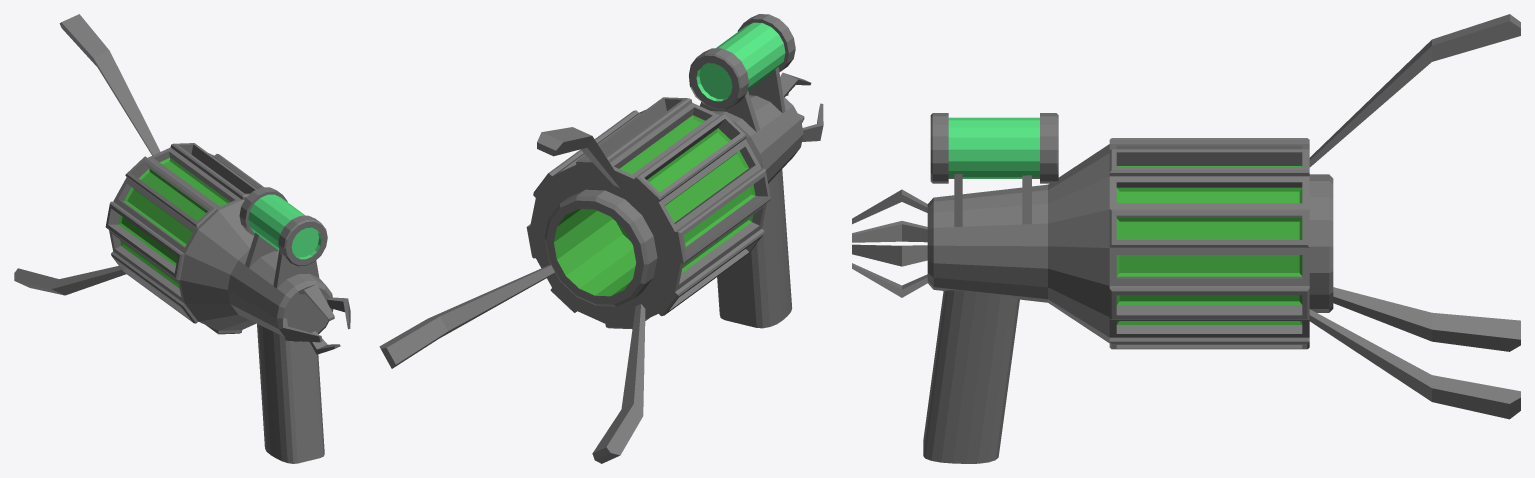
File: physgun.fbx
3 renders of one model, left to right at view 1: azimuth 30°, elevation 25°; view 2: azimuth 150°, elevation 25°; view 3: azimuth 270°, elevation 25°, orthographic. The views are drawn at different scales.
Parts seen in each view (by area): view 1: Cylinder; view 2: Cylinder; view 3: Cylinder.
Boxes of the visible parts, box(x1,y1,x2,y2) form: Cylinder: box(14, 14, 350, 463); Cylinder: box(379, 14, 823, 463); Cylinder: box(852, 14, 1520, 463).
Size of the model in its own units: 320 by 457 by 669.
